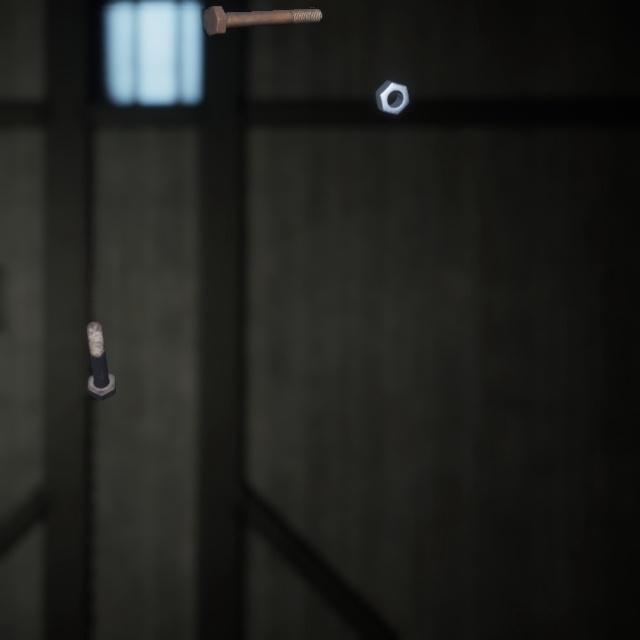bolt: (198, 0, 326, 32), (82, 298, 120, 386)
nut: (370, 65, 413, 108)
